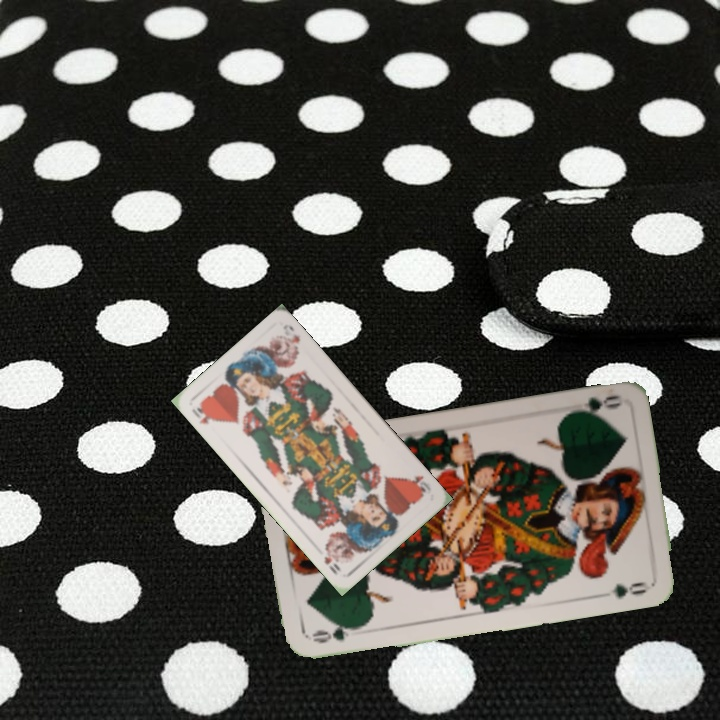GO: (564, 391, 623, 420), (308, 621, 365, 646)
HO: (188, 399, 219, 427), (404, 471, 433, 498)
